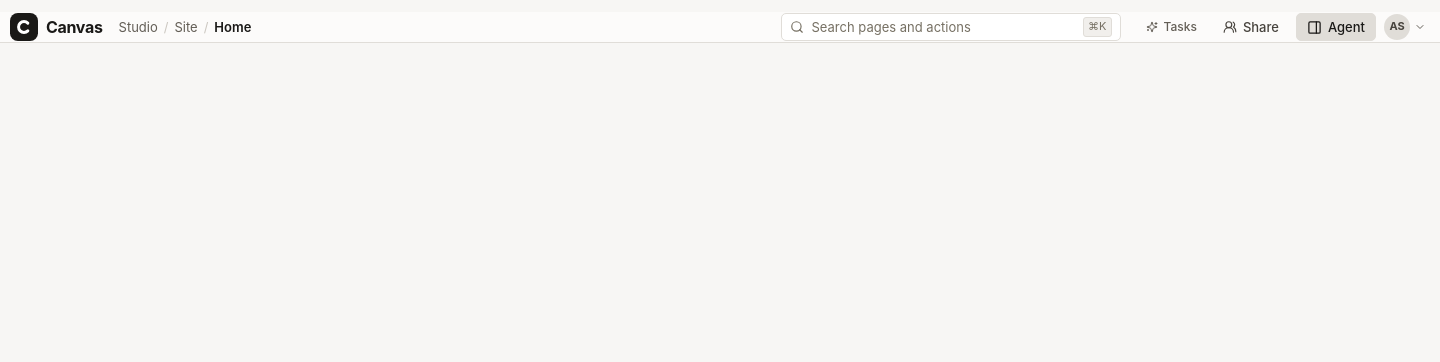
Test: workspace chrome › says where you are and keeps one account menu
The image size is (1440, 362).
Expected: the text "Studio" is shown, [119,17,158,37]
Expected: the text "Site" is shown, [174,17,198,37]
What coordinates should you click on to do the following:
click the button with aria-label "Account menu"
I would click on:
 (1406, 27)
Its box is [1382,12,1430,42].
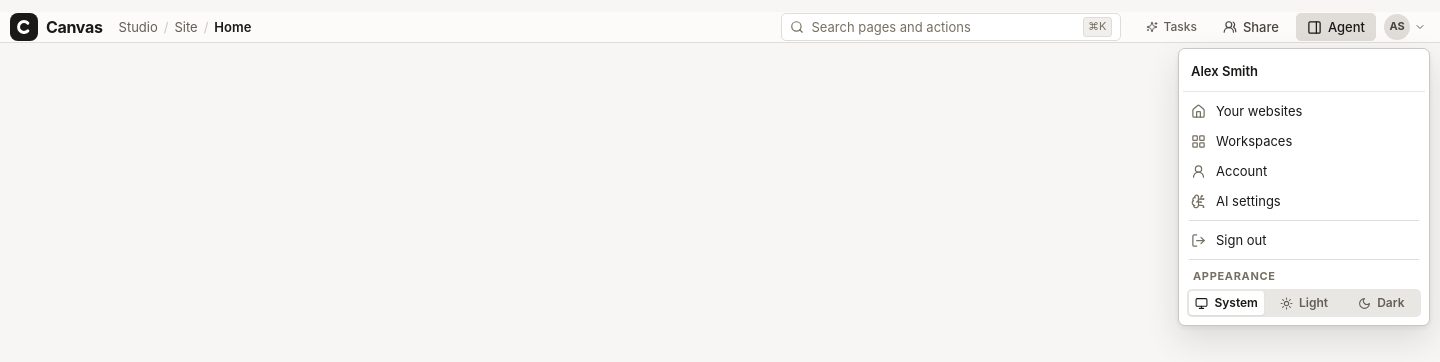
Now the menu item "Your websites" is shown, box [1191,103,1302,119]
Now the menu item "Workspaces" is shown, box [1191,133,1292,149]
Now the menu item "Account" is shown, box [1191,163,1267,179]
